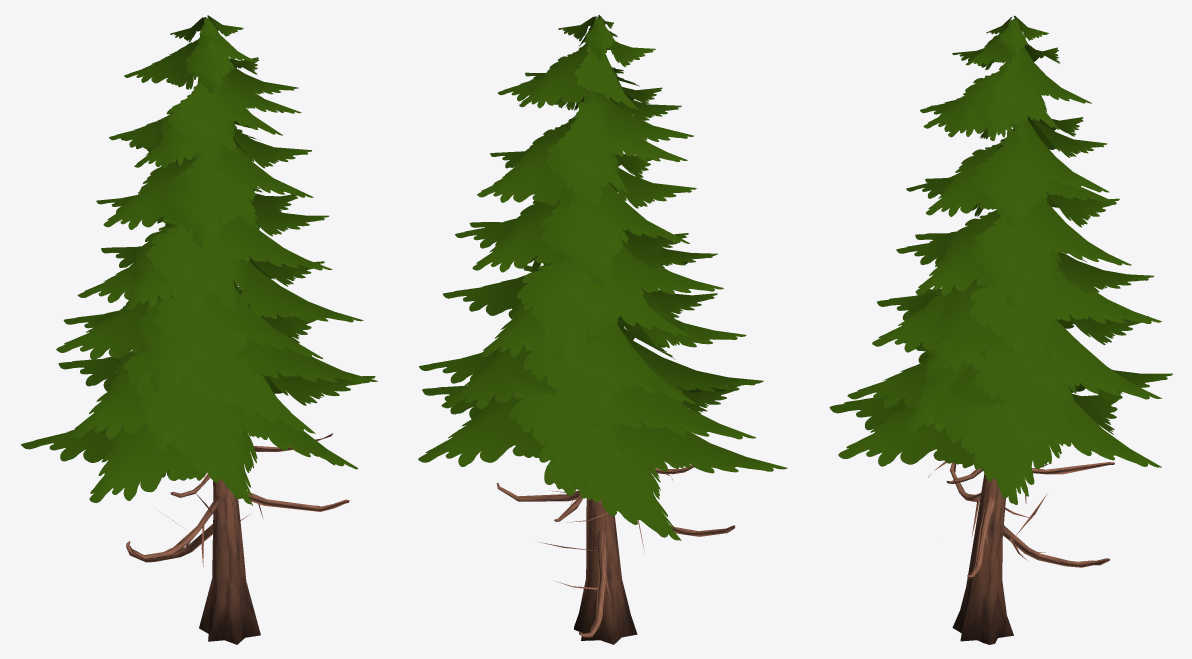
Rendered from pine_4.glb.
3 renders of one model, left to right at view 1: azimuth 30°, elevation 25°; view 2: azimuth 150°, elevation 25°; view 3: azimuth 270°, elevation 25°, orthographic. The views are drawn at different scales.
Visible parts, largest first — view 1: Pine_4; view 2: Pine_4; view 3: Pine_4.
Boxes of the visible parts, bbox=[...] form: Pine_4: bbox=[21, 15, 377, 644]; Pine_4: bbox=[418, 15, 787, 644]; Pine_4: bbox=[829, 15, 1172, 644].
Bounding box in the file's own units: 5.8 × 10.22 × 5.37.
Materials: 2 (2 with a texture image).
